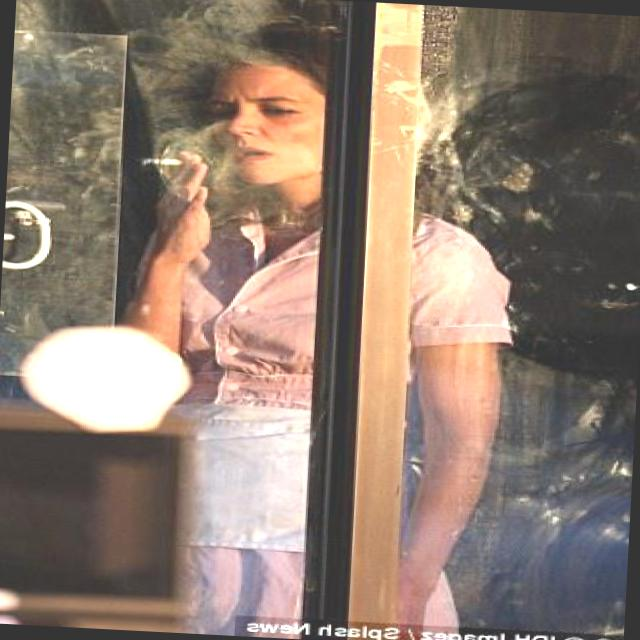cigarette: (132, 146, 200, 170)
